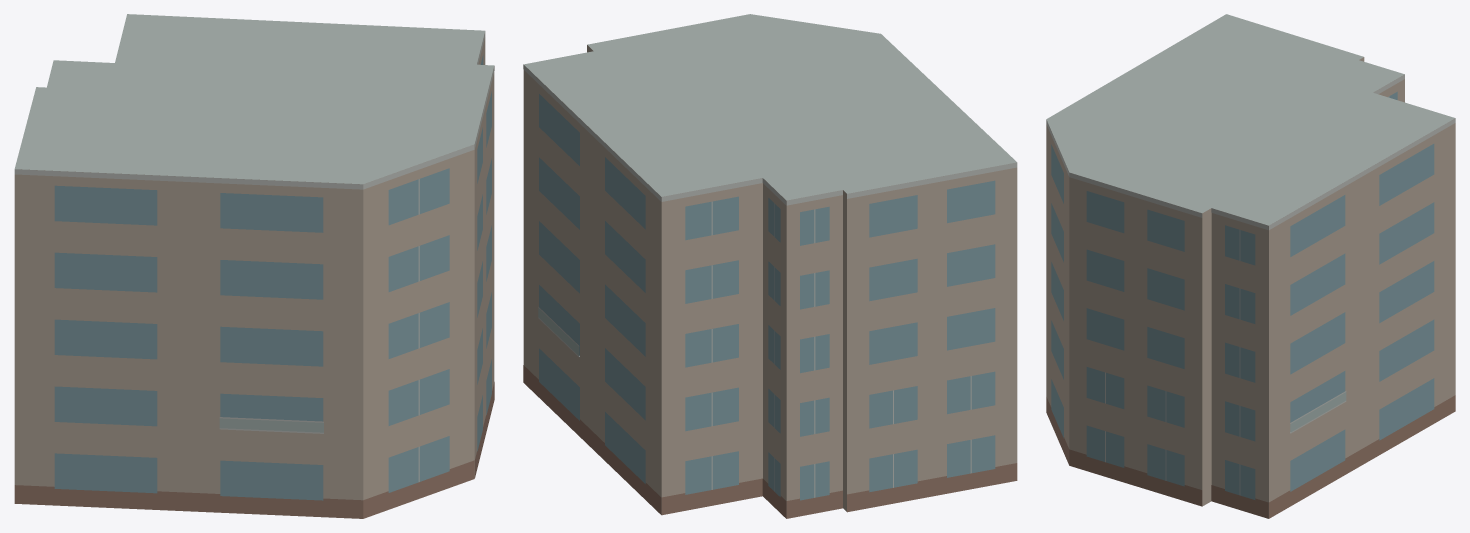
The model's file is survey-upis-32743032.glb.
The picture shows the model from 3 angles, left to right: view 1: azimuth 30°, elevation 25°; view 2: azimuth 150°, elevation 25°; view 3: azimuth 270°, elevation 25°; orthographic projection. The views are drawn at different scales.
Parts seen in each view (by area): view 1: survey-upis-32743032.tmp; view 2: survey-upis-32743032.tmp; view 3: survey-upis-32743032.tmp.
Boxes of the visible parts, x1,y1,x2,y2 form: survey-upis-32743032.tmp: [14, 14, 494, 518]; survey-upis-32743032.tmp: [523, 14, 1017, 518]; survey-upis-32743032.tmp: [1046, 14, 1455, 518].
Size of the model in its own units: 23.62 by 15.25 by 19.3.
